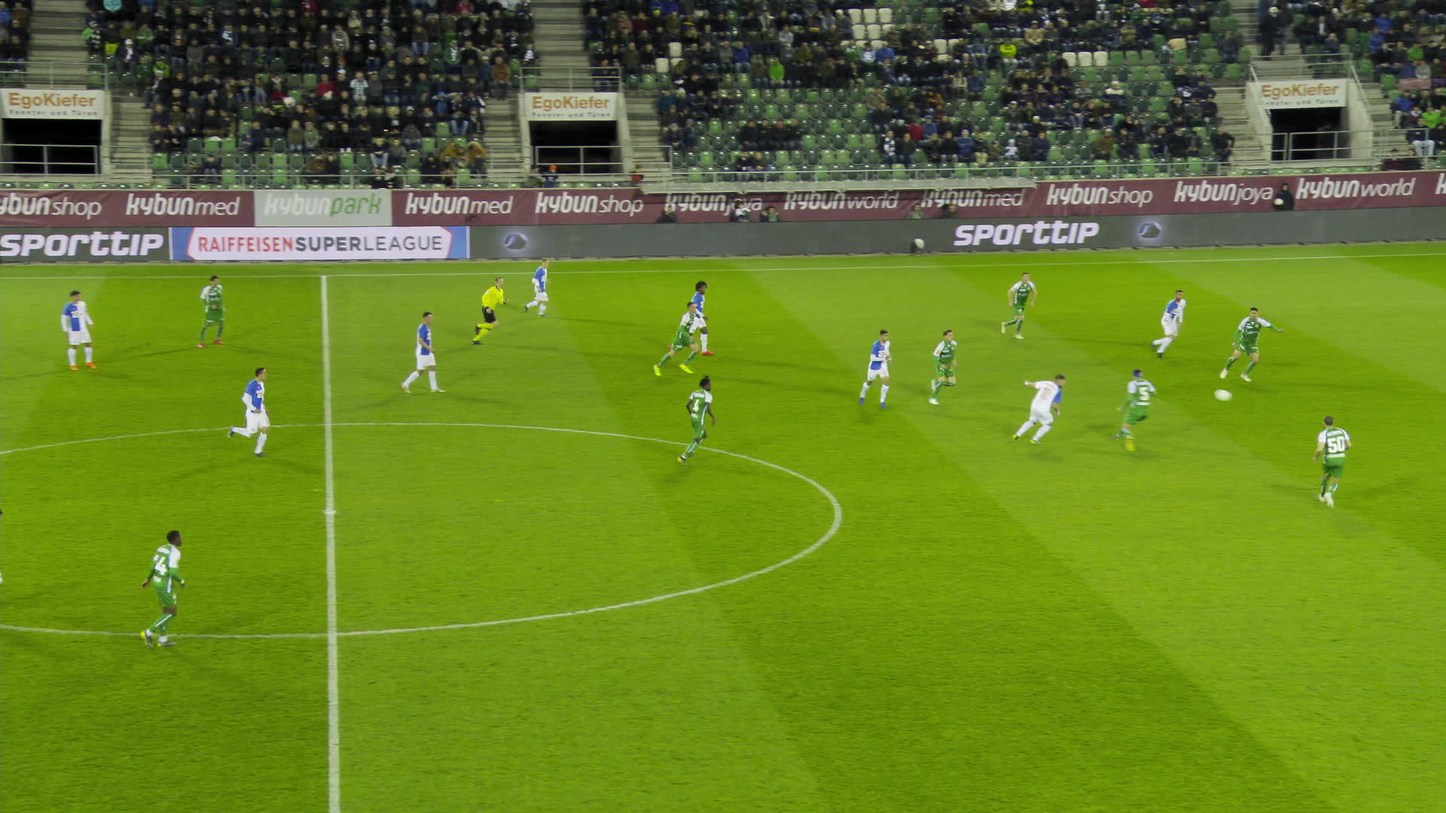ball: (1211, 388, 1228, 402)
player: (129, 530, 187, 648), (667, 373, 715, 467), (1219, 308, 1283, 377), (1112, 370, 1157, 450), (231, 366, 269, 458), (1017, 373, 1066, 444), (655, 298, 701, 373), (1313, 417, 1351, 507), (917, 327, 960, 400), (63, 290, 97, 371), (984, 272, 1027, 336), (860, 330, 895, 407), (1149, 291, 1189, 358), (410, 312, 440, 392), (682, 282, 711, 355), (520, 257, 553, 317), (205, 275, 230, 346)
referee: (471, 278, 505, 349)
